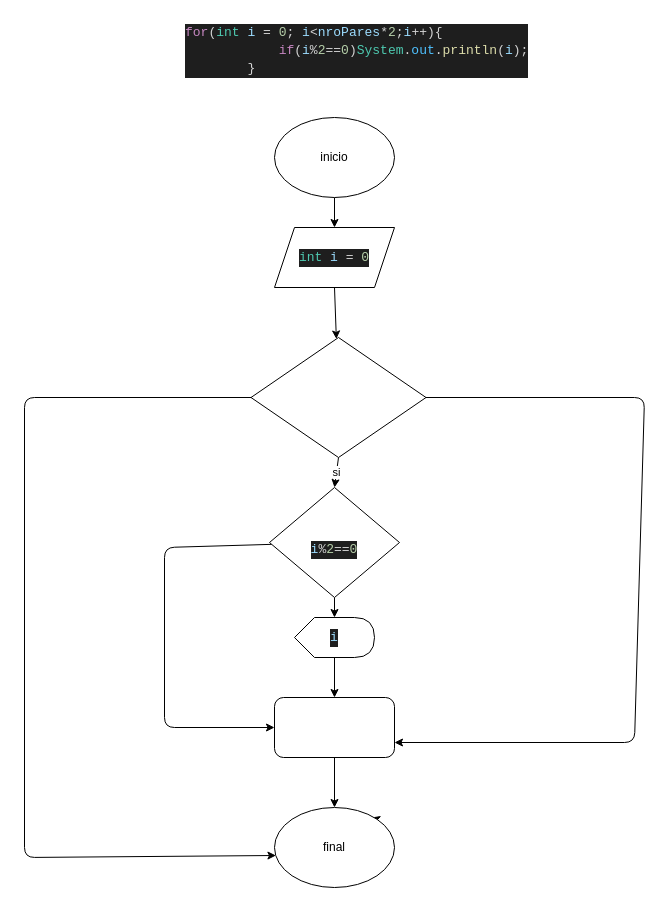
This 670x905 diagram has some shape labels left out. The centre of each missing label's shape, as x and y in pixels:
"i ++" belongs at (334,727).
"i < nroPares * 2" belongs at (338,397).
